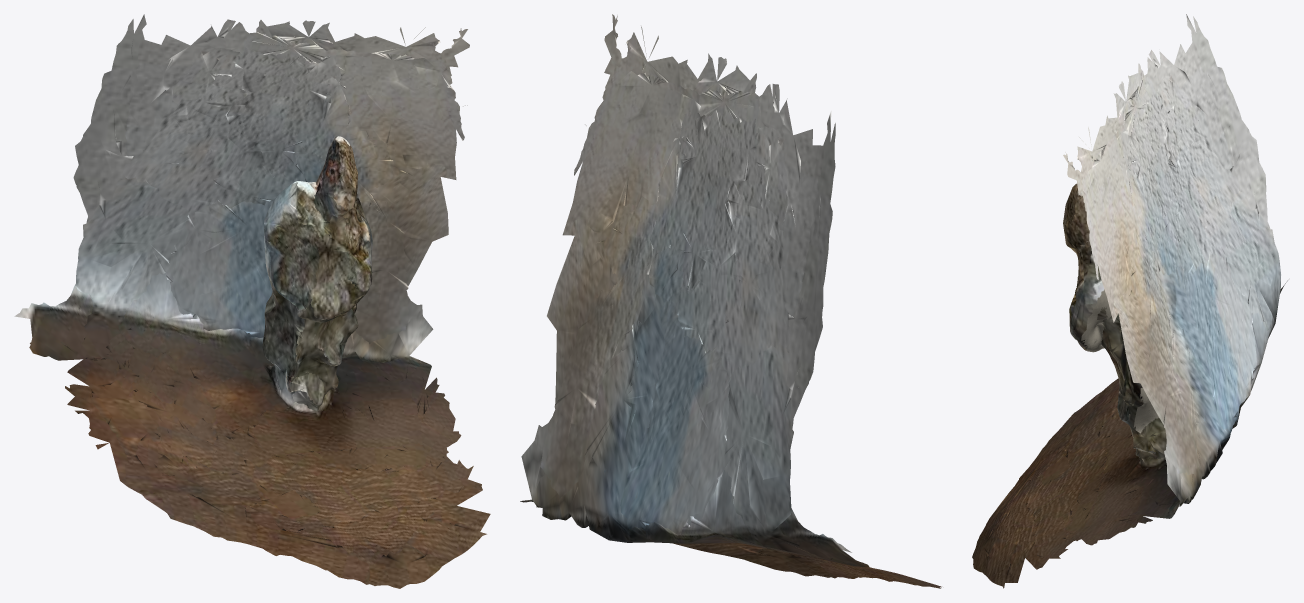
Rendered from nuffy ori.obj.
The picture shows the model from 3 angles, left to right: view 1: azimuth 30°, elevation 25°; view 2: azimuth 150°, elevation 25°; view 3: azimuth 270°, elevation 25°; orthographic projection. The views are drawn at different scales.
Bounding box in the file's own units: 15.58 × 22.06 × 13.22.
Materials: 1 (1 with a texture image).
